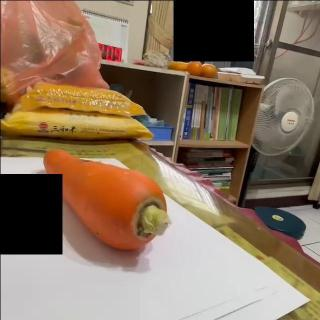carrot: (41, 148, 171, 250)
